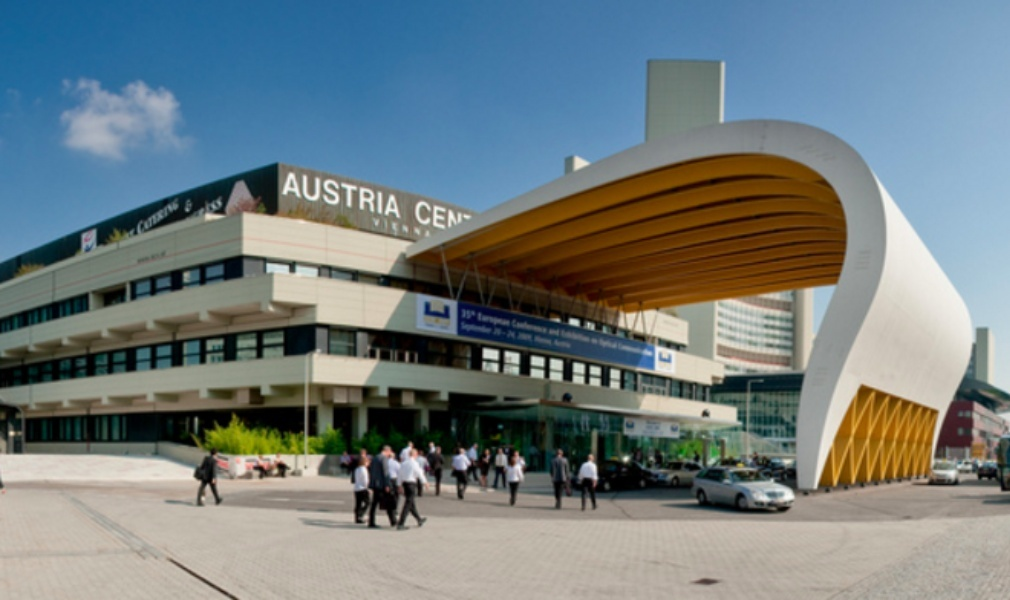text: (385, 169, 401, 219), (289, 169, 304, 219), (305, 169, 320, 219), (321, 169, 336, 219), (337, 169, 352, 219), (353, 169, 368, 219), (369, 169, 384, 219), (145, 195, 160, 236), (161, 195, 176, 236), (132, 195, 144, 236), (417, 198, 432, 230), (433, 198, 448, 230), (449, 198, 464, 230), (465, 198, 479, 230), (209, 195, 225, 221), (193, 195, 208, 221), (369, 216, 384, 238), (385, 216, 400, 238), (401, 216, 416, 238), (417, 216, 432, 238), (577, 328, 592, 349), (593, 328, 608, 349), (562, 328, 576, 349), (529, 331, 544, 348), (545, 331, 560, 348), (513, 317, 528, 333), (529, 317, 544, 333), (481, 311, 496, 327), (183, 195, 192, 221), (625, 342, 640, 357), (465, 320, 480, 334), (497, 311, 510, 327), (516, 331, 528, 348), (641, 342, 654, 357), (497, 327, 512, 340), (642, 418, 656, 431), (561, 331, 571, 348), (609, 328, 617, 349), (177, 195, 181, 236), (481, 320, 492, 334), (285, 169, 288, 219), (183, 198, 192, 213), (465, 308, 476, 320), (548, 327, 560, 336), (619, 342, 624, 357), (657, 418, 662, 431), (414, 198, 416, 230), (460, 320, 464, 334), (492, 327, 496, 340), (545, 317, 548, 333), (460, 308, 464, 320), (478, 311, 480, 327), (513, 327, 515, 340)
